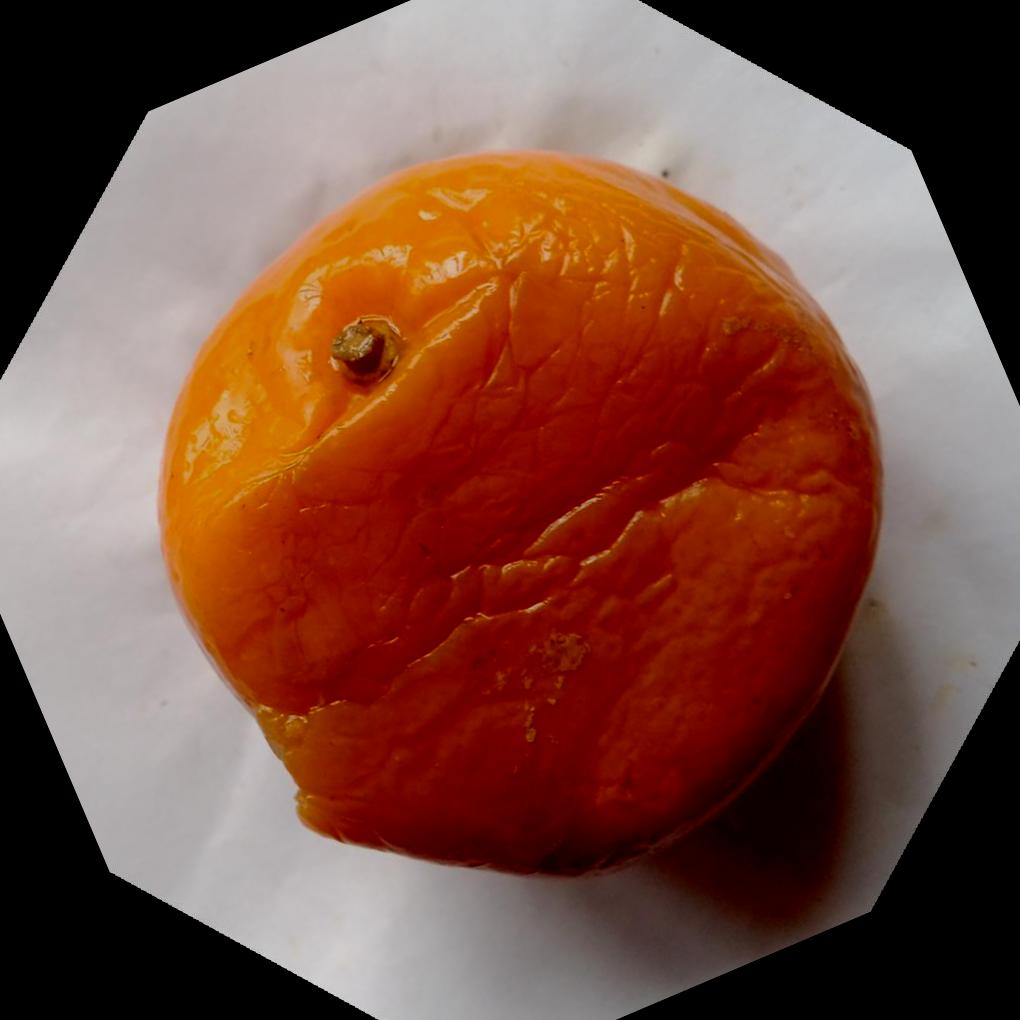FreshOrange: (158, 145, 888, 880)
